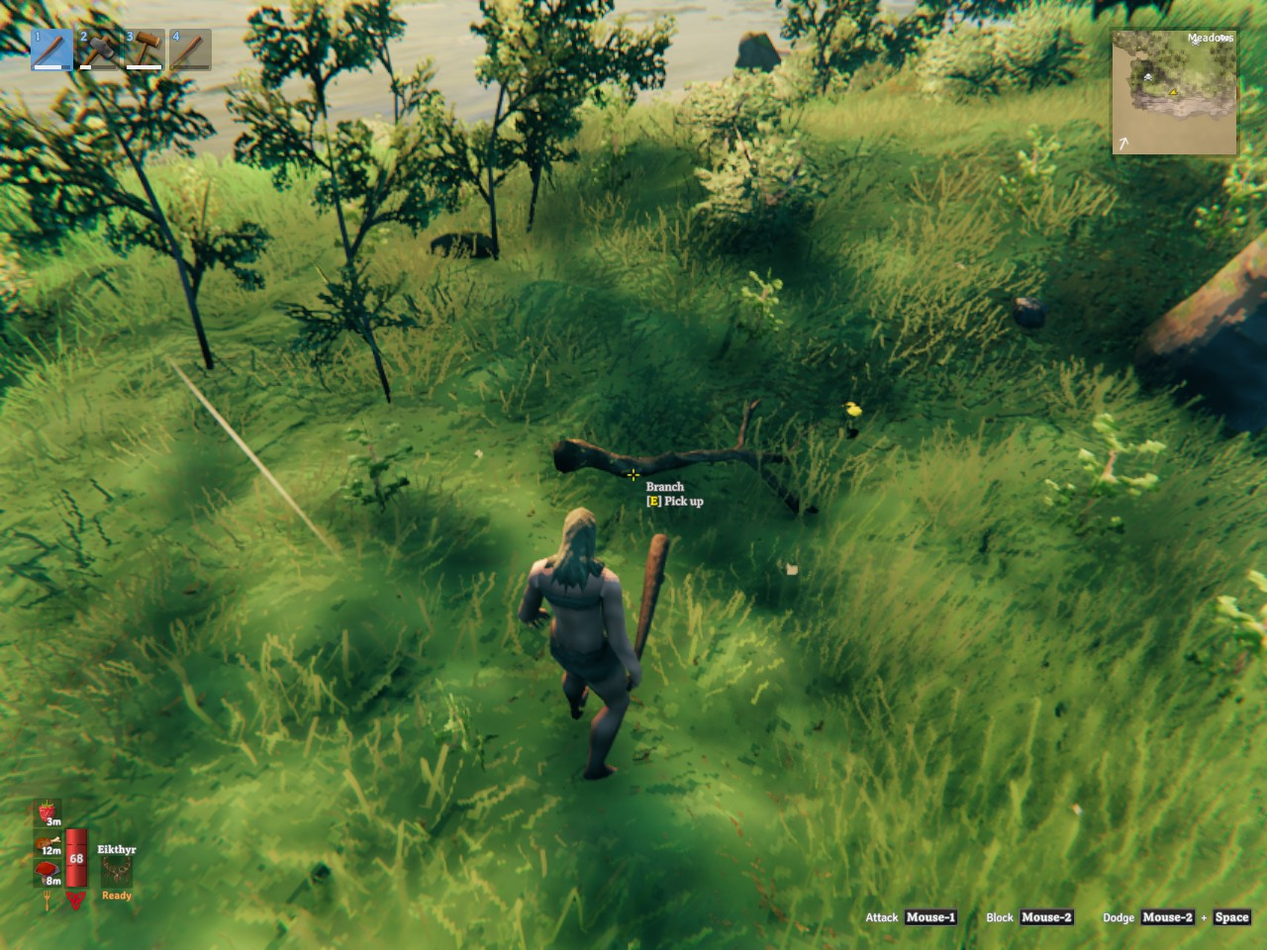Branch: (553, 400, 816, 513)
Club: (634, 533, 669, 659)
Food Indicator: (36, 797, 63, 891)
Health Bar: (63, 820, 90, 891)
Hotbar: (25, 21, 398, 78)
Stone: (1012, 297, 1046, 329)
